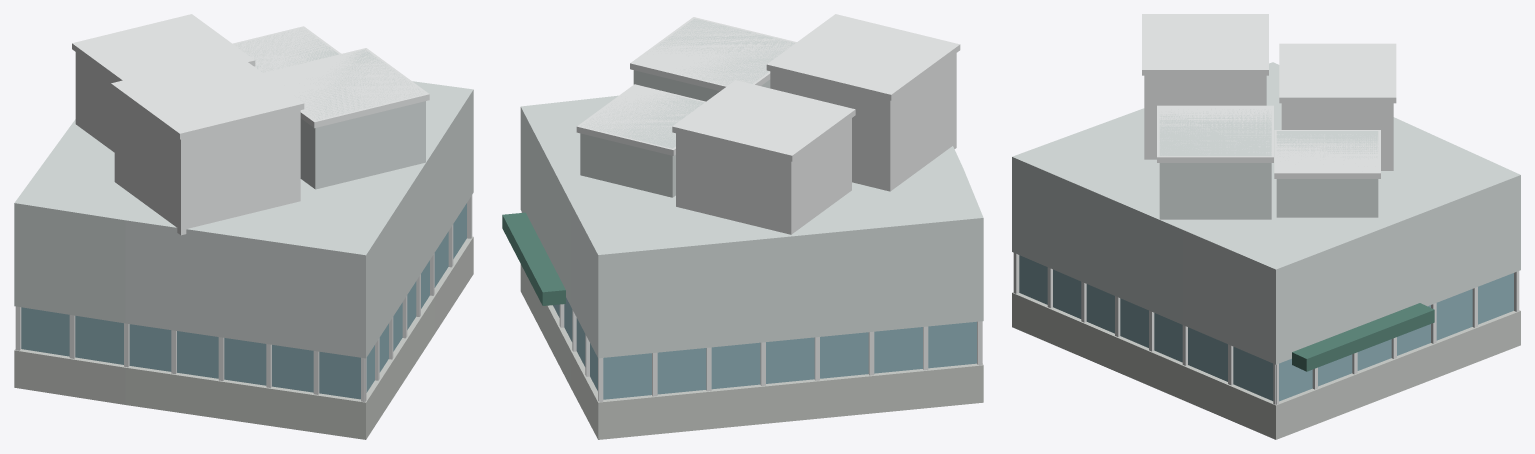
File: green-museumbrary.glb
The picture shows the model from 3 angles, left to right: view 1: azimuth 30°, elevation 25°; view 2: azimuth 150°, elevation 25°; view 3: azimuth 270°, elevation 25°; orthographic projection. The views are drawn at different scales.
Parts seen in each view (by area): view 1: green-museumbrary; view 2: green-museumbrary; view 3: green-museumbrary.
Boxes of the visible parts, x1=… form: green-museumbrary: x1=14, y1=14, x2=473, y2=439; green-museumbrary: x1=502, y1=14, x2=983, y2=439; green-museumbrary: x1=1012, y1=14, x2=1520, y2=439.
Size of the model in its own units: 49.27 by 28.8 by 50.9.
